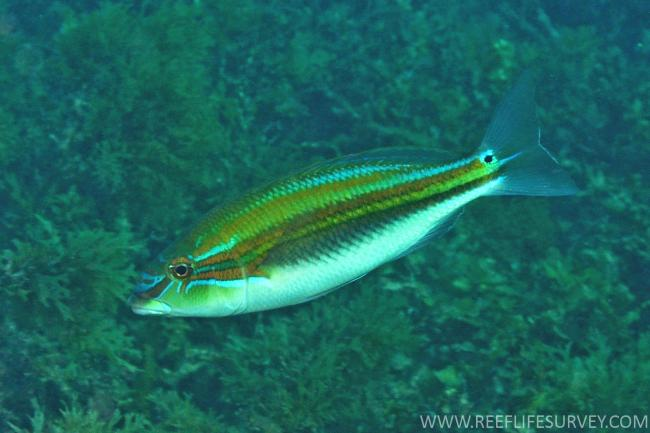fish: (130, 68, 584, 319)
